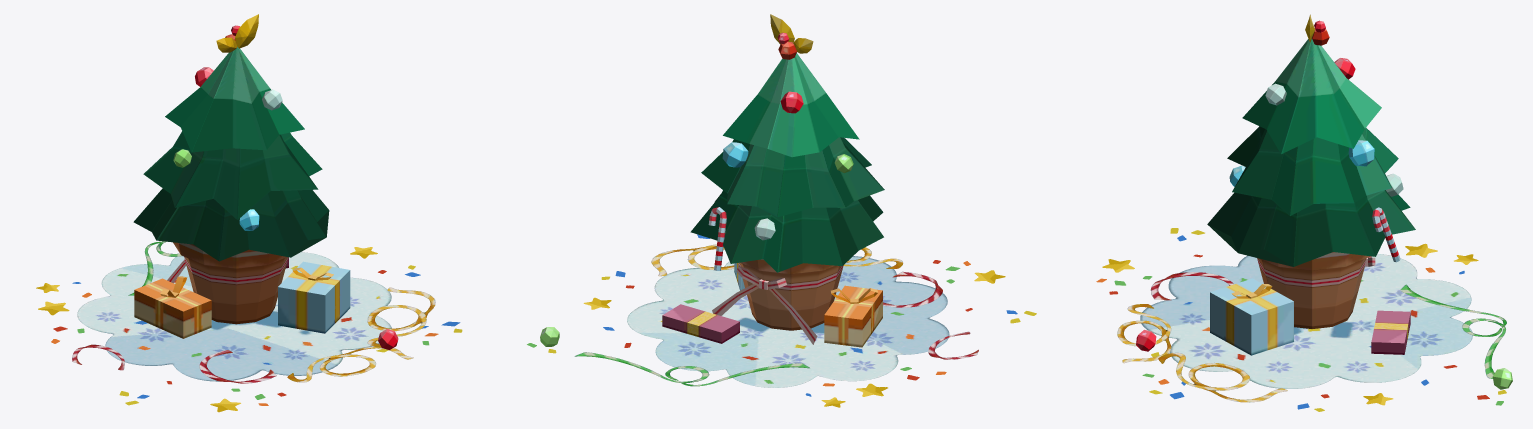
Rendered from ctree3.obj.
The picture shows the model from 3 angles, left to right: view 1: azimuth 30°, elevation 25°; view 2: azimuth 150°, elevation 25°; view 3: azimuth 270°, elevation 25°; orthographic projection. The views are drawn at different scales.
Parts seen in each view (by area): view 1: no_alfa, alfa; view 2: no_alfa, alfa; view 3: no_alfa, alfa.
Part boxes in pixels (x1=…): no_alfa: x1=133, y1=14, x2=398, y2=349; alfa: x1=36, y1=241, x2=462, y2=412; no_alfa: x1=540, y1=14, x2=884, y2=347; alfa: x1=527, y1=234, x2=1036, y2=407; no_alfa: x1=1136, y1=14, x2=1512, y2=389; alfa: x1=1096, y1=228, x2=1506, y2=411.
Bounding box in the file's own units: 4.97 × 3.75 × 4.79.
